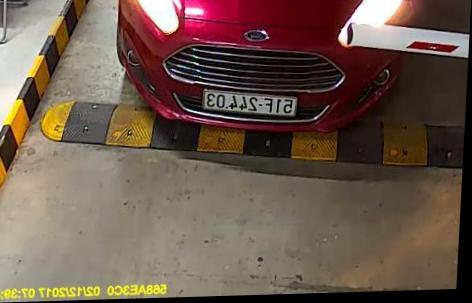License_Plate: (199, 88, 303, 116)
